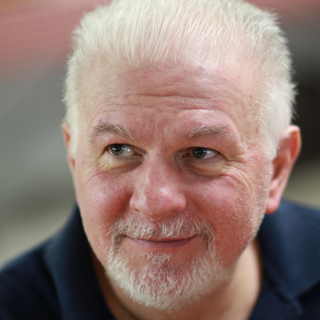eye: (177, 140, 226, 166), (97, 138, 142, 164)
